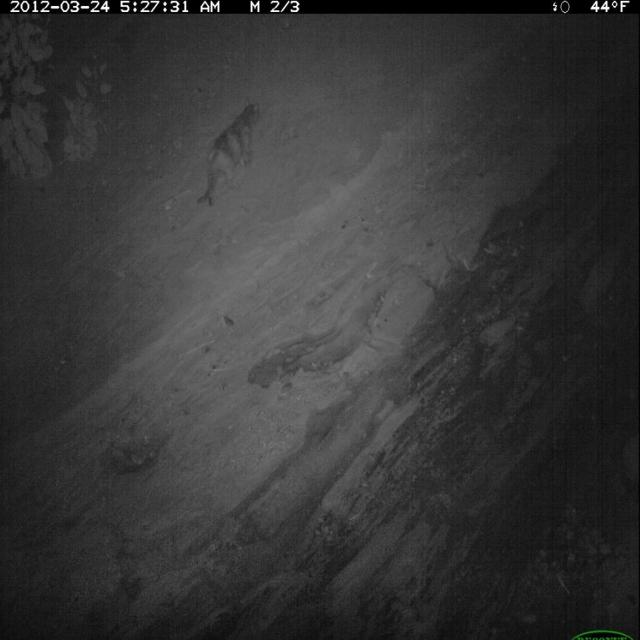cat: (193, 97, 265, 212)
